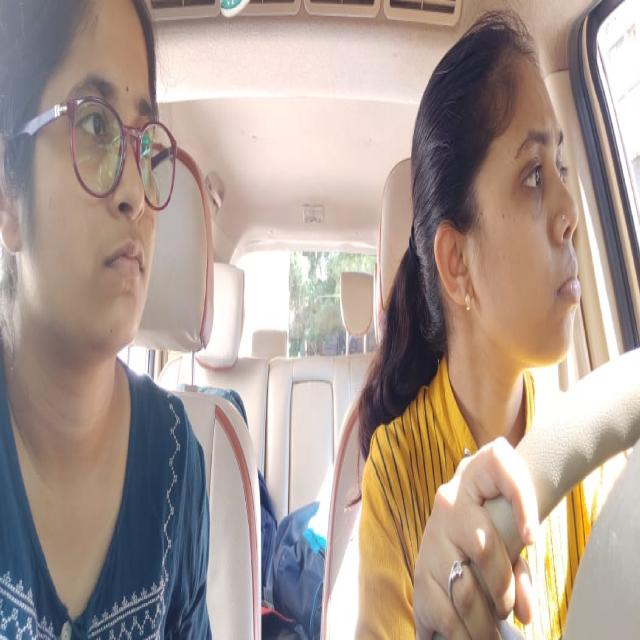LeftRight: (401, 4, 584, 378)
person: (3, 0, 172, 358)
